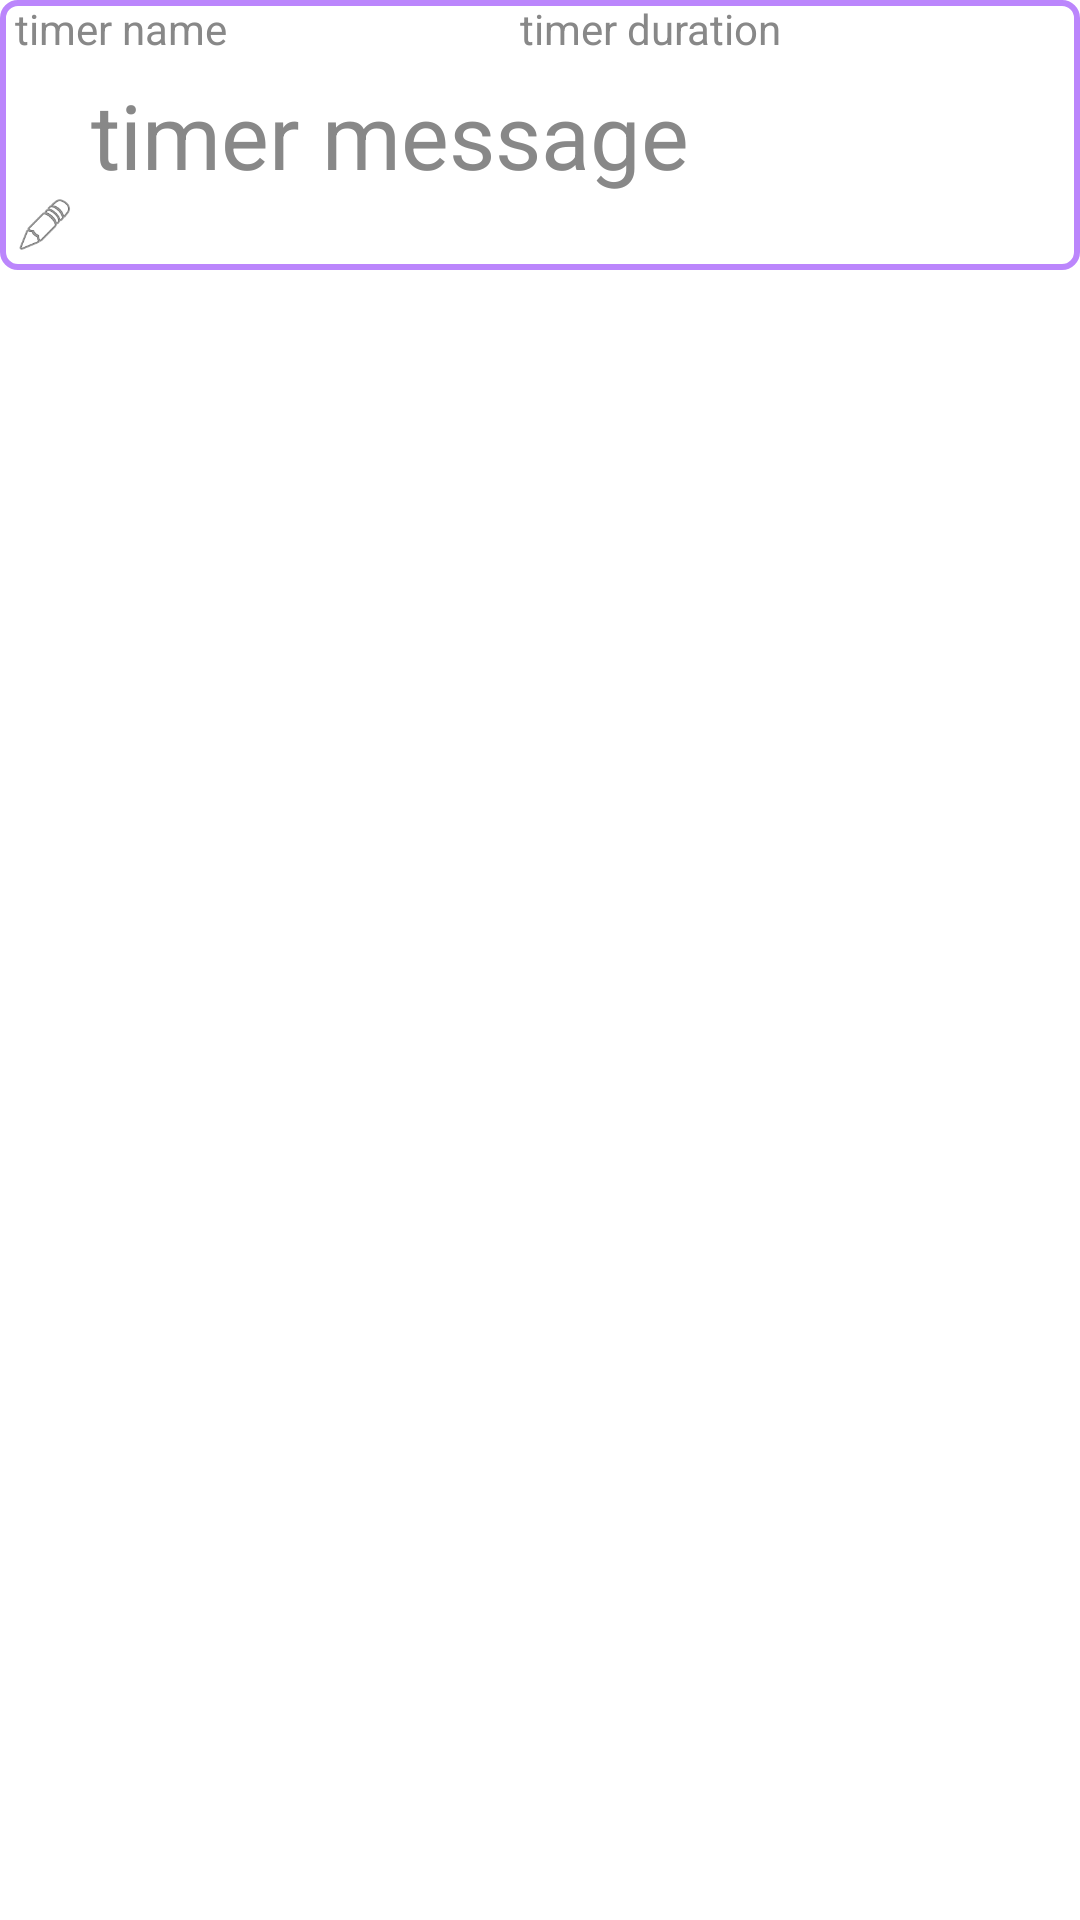

Screen size 1080*1920. Icon name, then its box in pixels as (x1, y1, x2, y2):
edit: (19, 199, 70, 250)
